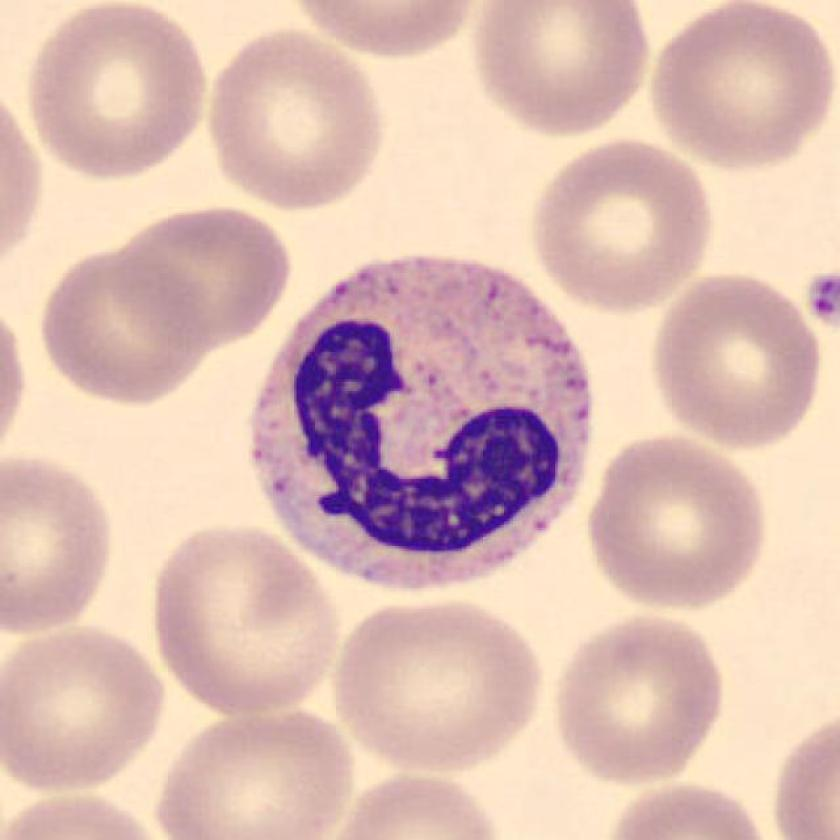neutrophil: (253, 259, 590, 591)
